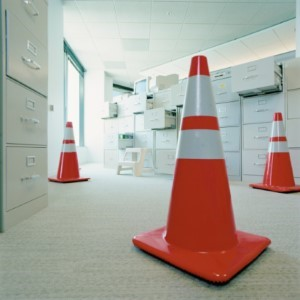traffic cone: (132, 54, 271, 284), (249, 112, 300, 193), (47, 121, 91, 183)
